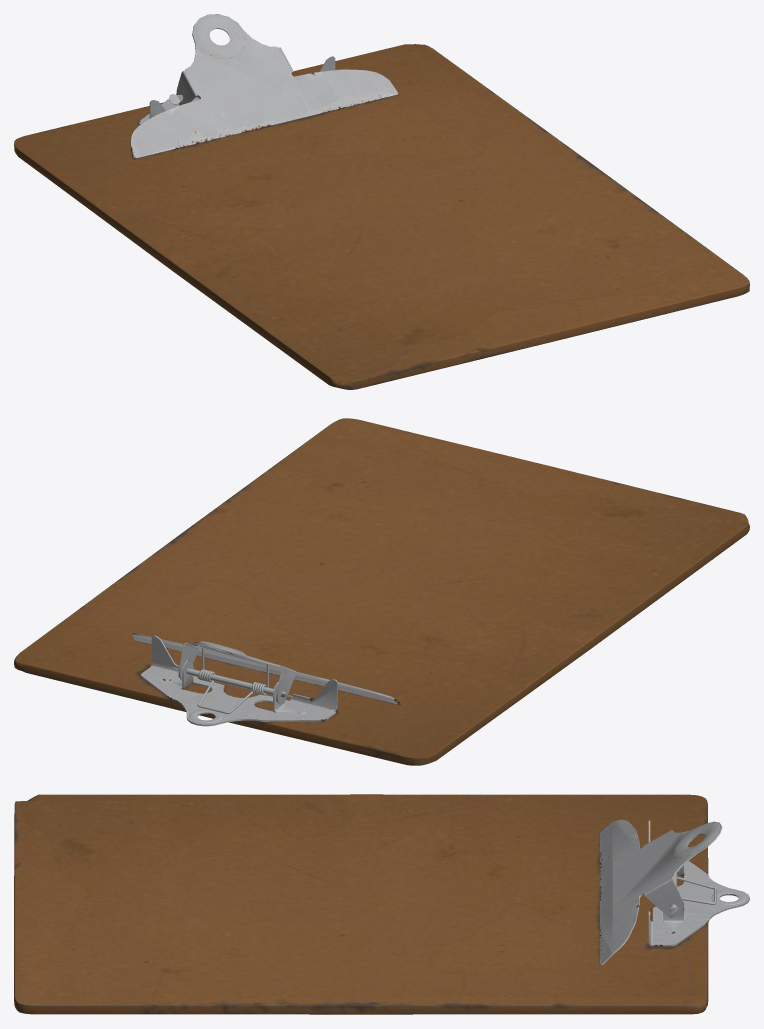
The model's file is clipboard.glb.
3 views of the same model, one above another, from view 1: azimuth 30°, elevation 25°; view 2: azimuth 150°, elevation 25°; view 3: azimuth 270°, elevation 25° (orthographic). The views are drawn at different scales.
Visible parts, largest first — view 1: clipboard; view 2: clipboard; view 3: clipboard.
Boxes of the visible parts, bbox=[...] form: clipboard: bbox=[14, 14, 749, 389]; clipboard: bbox=[14, 418, 749, 765]; clipboard: bbox=[14, 794, 749, 1014].
Bounding box in the file's own units: 0.2286 × 0.042 × 0.3366.
Materials: 1 (1 with a texture image).
